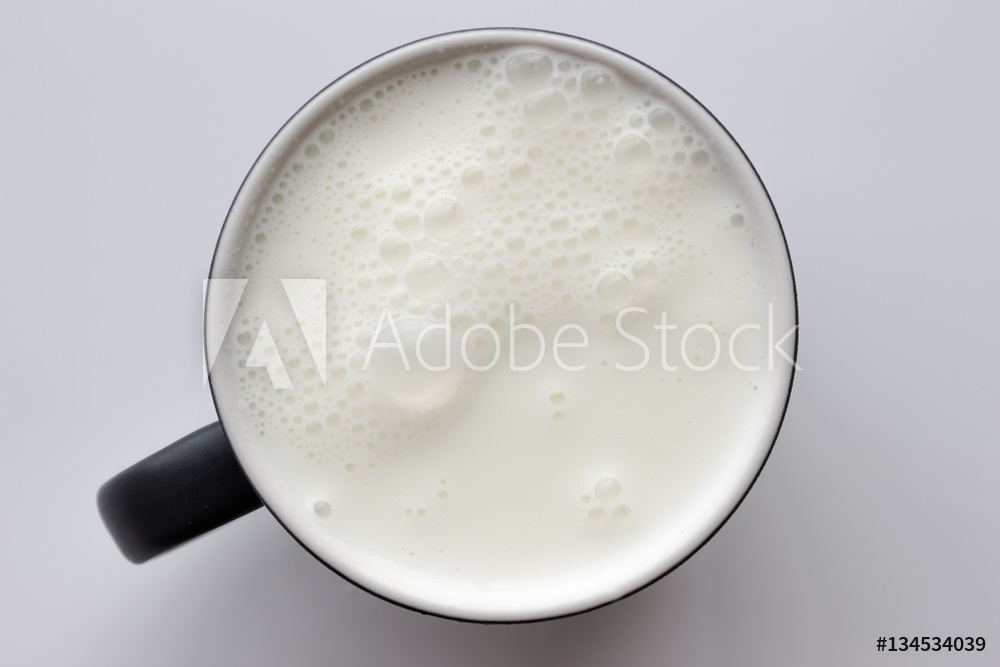glass of milk: (196, 33, 803, 620)
